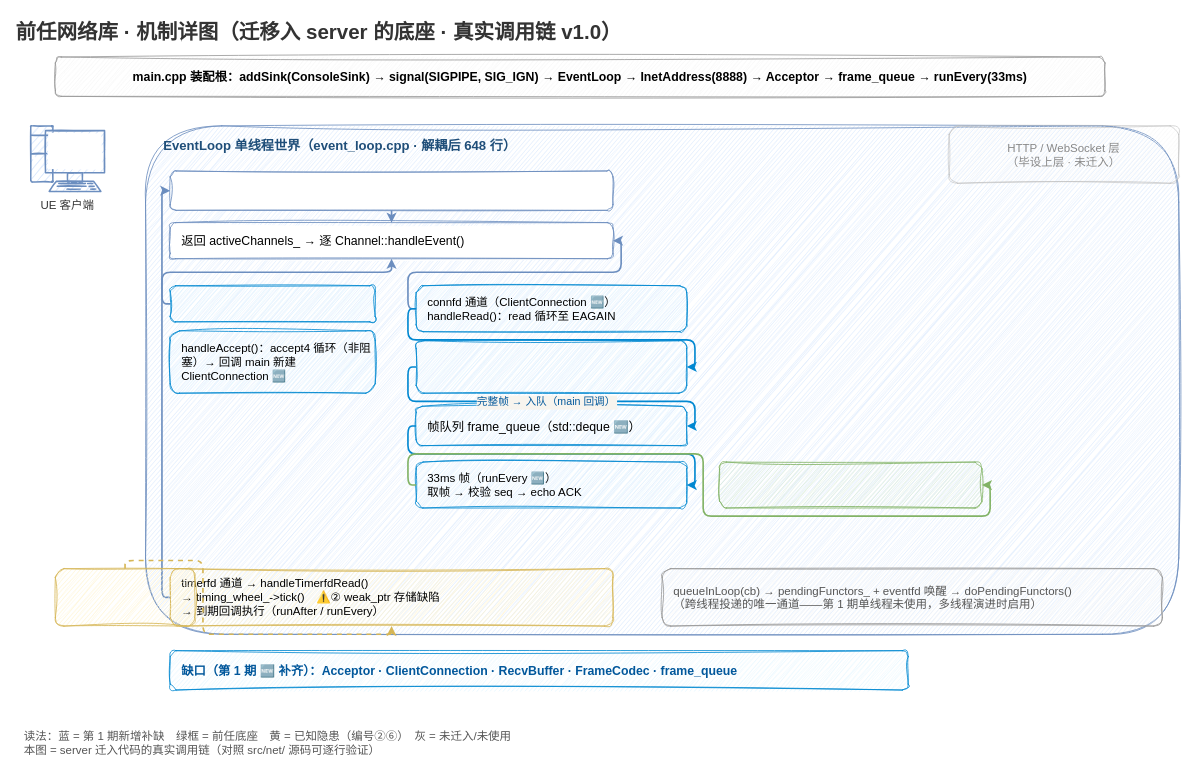
Some shapes in this 1193 by 779 pixel diagram are drawn without their labels. Here are the shapes that lost their labels. From the top down, the centre of each, then its label:
At point (391, 190): "loop()：poller_->poll(kEpollTimeoutMs = 100ms) ⚠️⑥".
At point (272, 303): "listenfd 通道（Acceptor）".
At point (551, 366): "RecvBuffer 攒字节 → FrameCodec 切帧 🆕 半包留缓冲 · 坏流丢弃".
At point (850, 484): "ACK 回包（ClientConnection::send）".
At point (125, 597): "Logger ✅ 需 addSink 装配 ⚠️ 否则静默".
